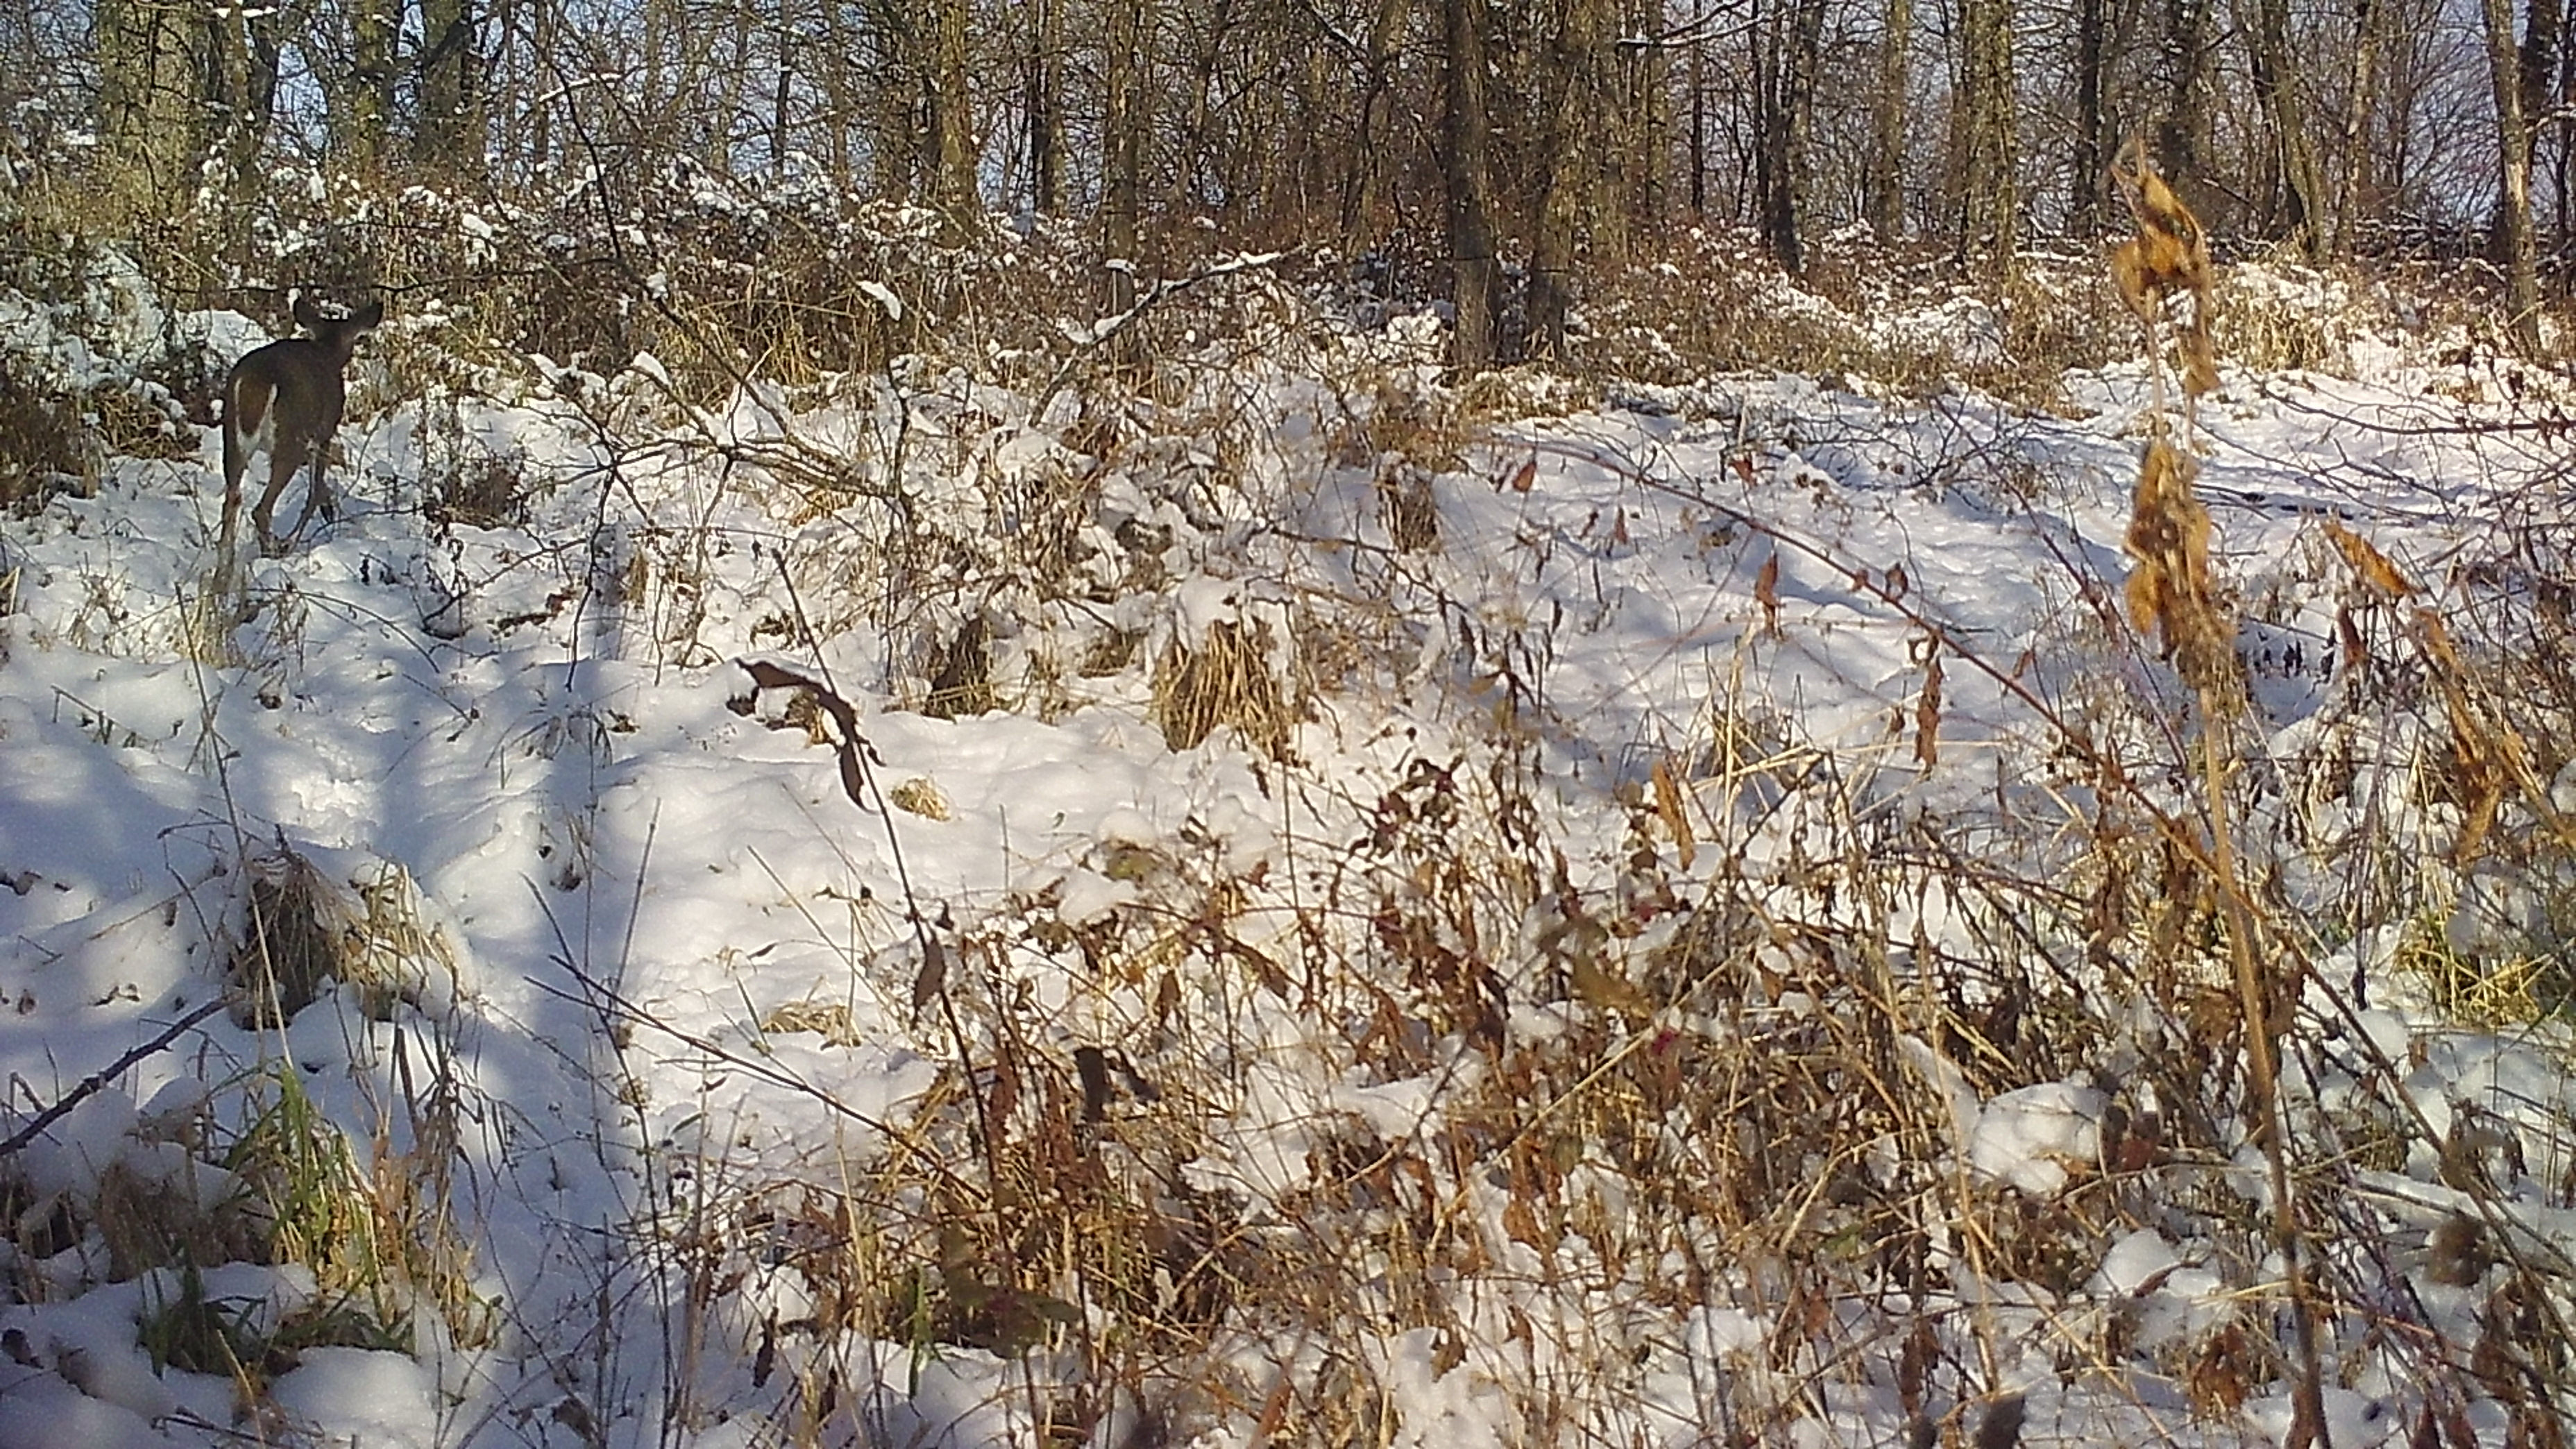Deer: (216, 290, 380, 586)
